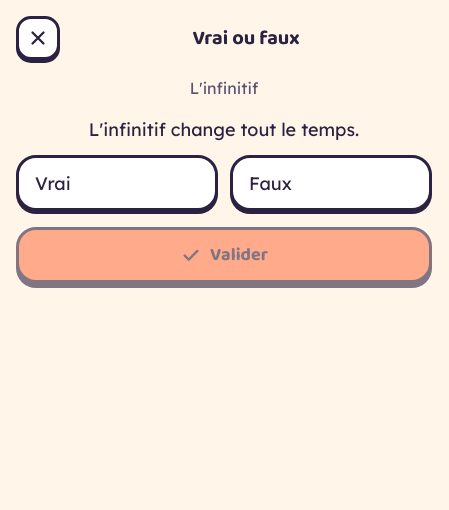
Test: GameScreen, quiz and true or false › a failed sending: glitch, a child's sentence, and « Réessaie » sends again
Click the button "Faux" at (331, 183), box [230,155,432,211]
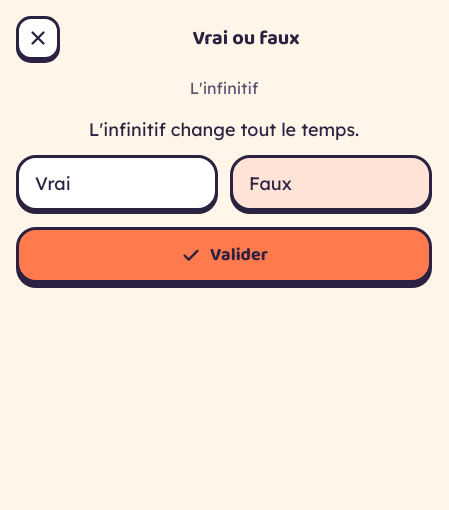
Click the button "Valider" at (224, 255), box [16,227,432,283]
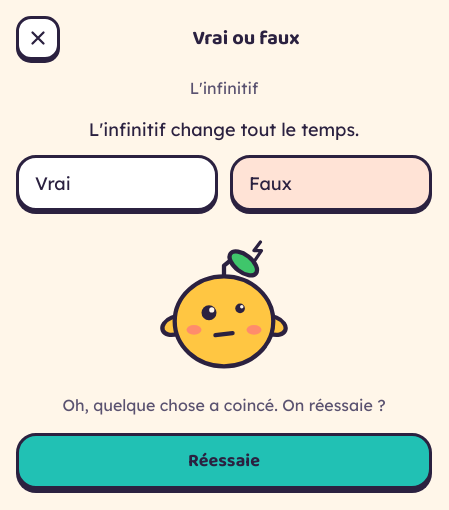
Expected: the text "Oh, quelque chose a coincé. On réessaie ?" is shown, [62,393,386,417]
Click the button "Réessaie" at (224, 461), box [16,433,432,489]
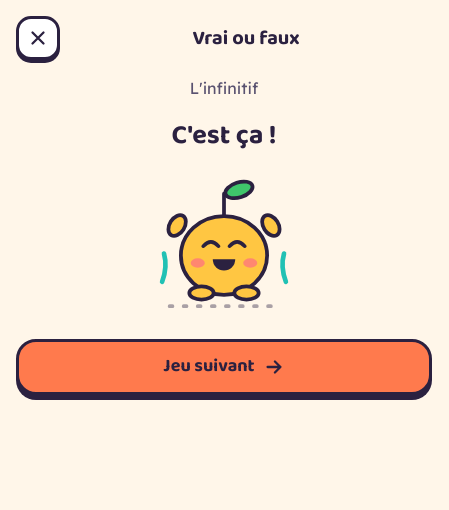
Expected: the text "C'est ça !" is shown, [172,116,276,156]
